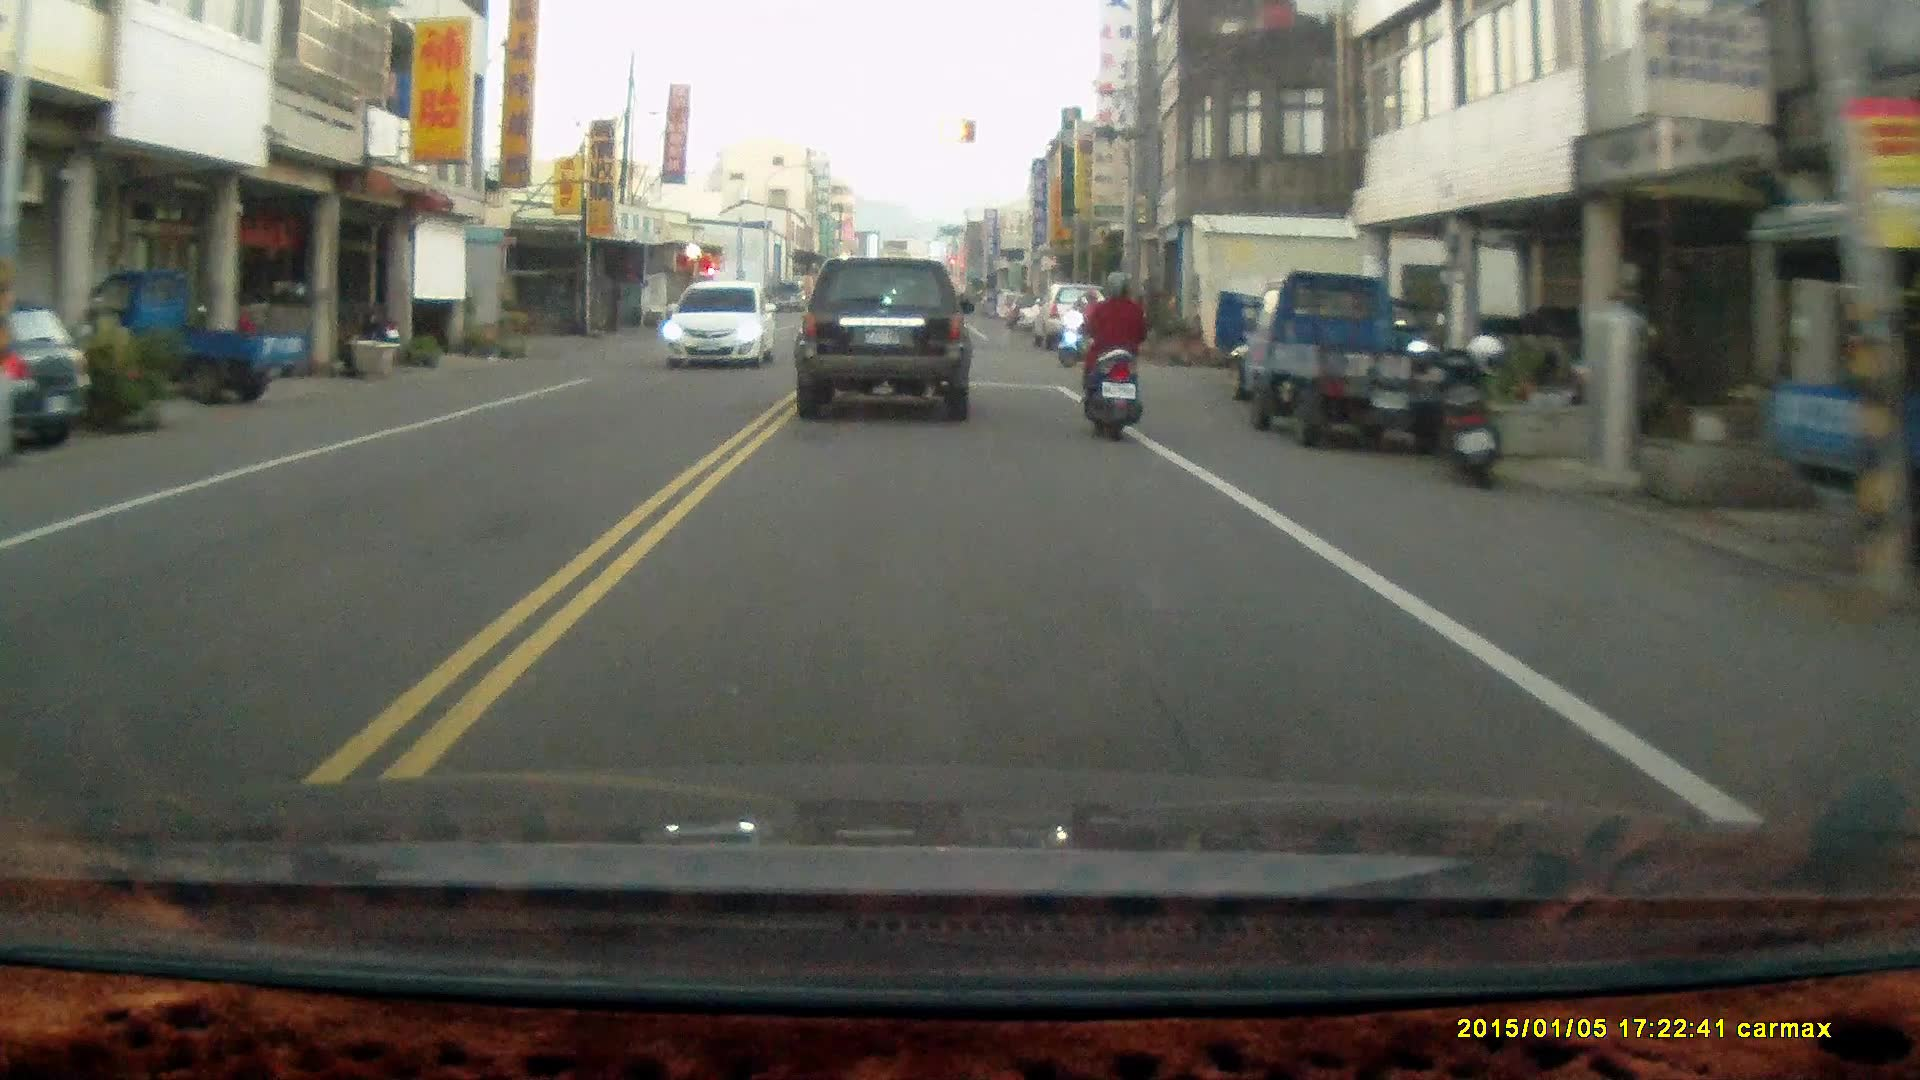rider: (1080, 270, 1144, 445), (1056, 292, 1108, 368)
vehicle: (1243, 273, 1476, 454), (69, 272, 314, 409), (794, 260, 974, 428), (1, 303, 93, 453), (660, 280, 779, 373), (1034, 286, 1113, 354)
